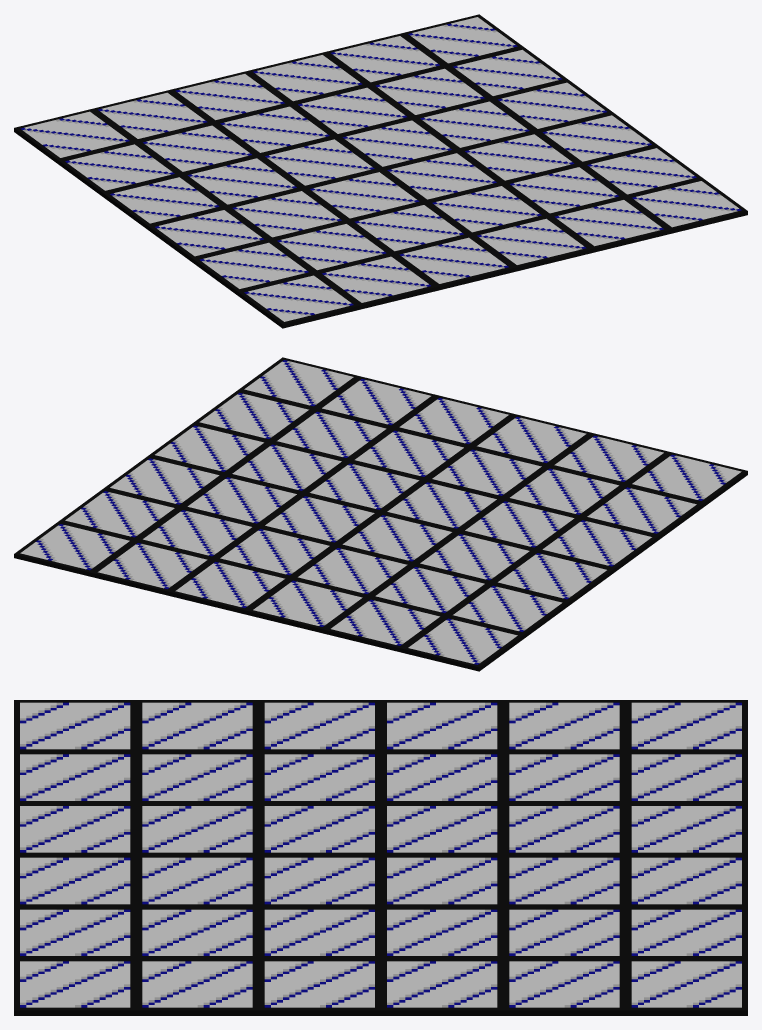
Rendered from BHall.obj.
3 renders of one model, top to bottom at view 1: azimuth 30°, elevation 25°; view 2: azimuth 150°, elevation 25°; view 3: azimuth 270°, elevation 25°, orthographic. The views are drawn at different scales.
Visible parts, largest first — view 1: BHall; view 2: BHall; view 3: BHall.
Boxes of the visible parts, bbox=[...] form: BHall: bbox=[14, 14, 747, 328]; BHall: bbox=[14, 357, 747, 671]; BHall: bbox=[14, 700, 747, 1015].
Bounding box in the file's own units: 120 × 1 × 120.
1 material, 1 textured.
